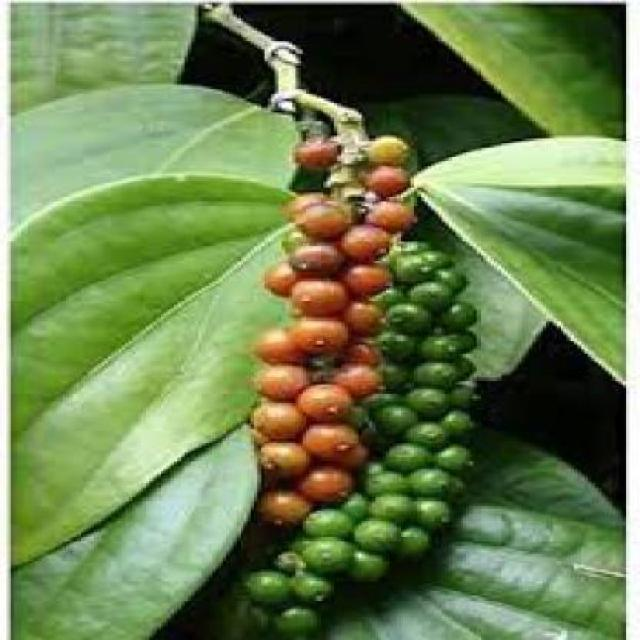RIPE: (268, 111, 359, 514)
UNRIPE: (359, 195, 470, 580)
